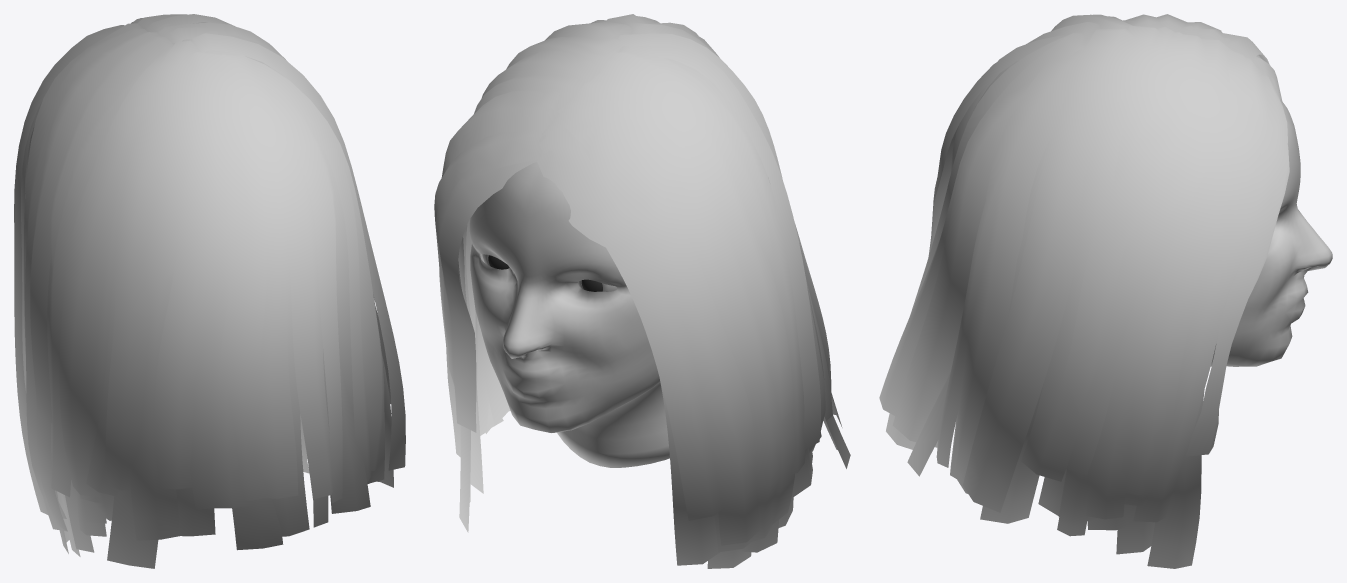
Rendered from head_attached_low.fbx.
The picture shows the model from 3 angles, left to right: view 1: azimuth 30°, elevation 25°; view 2: azimuth 150°, elevation 25°; view 3: azimuth 270°, elevation 25°; orthographic projection. The views are drawn at different scales.
Parts seen in each view (by area): view 1: subd; view 2: subd; view 3: subd.
Boxes of the visible parts, box(x1,y1,x2,y2) form: subd: box(14, 14, 405, 568); subd: box(434, 14, 850, 568); subd: box(879, 14, 1332, 568).
Bounding box in the file's own units: 30.44 × 44.48 × 37.41.
